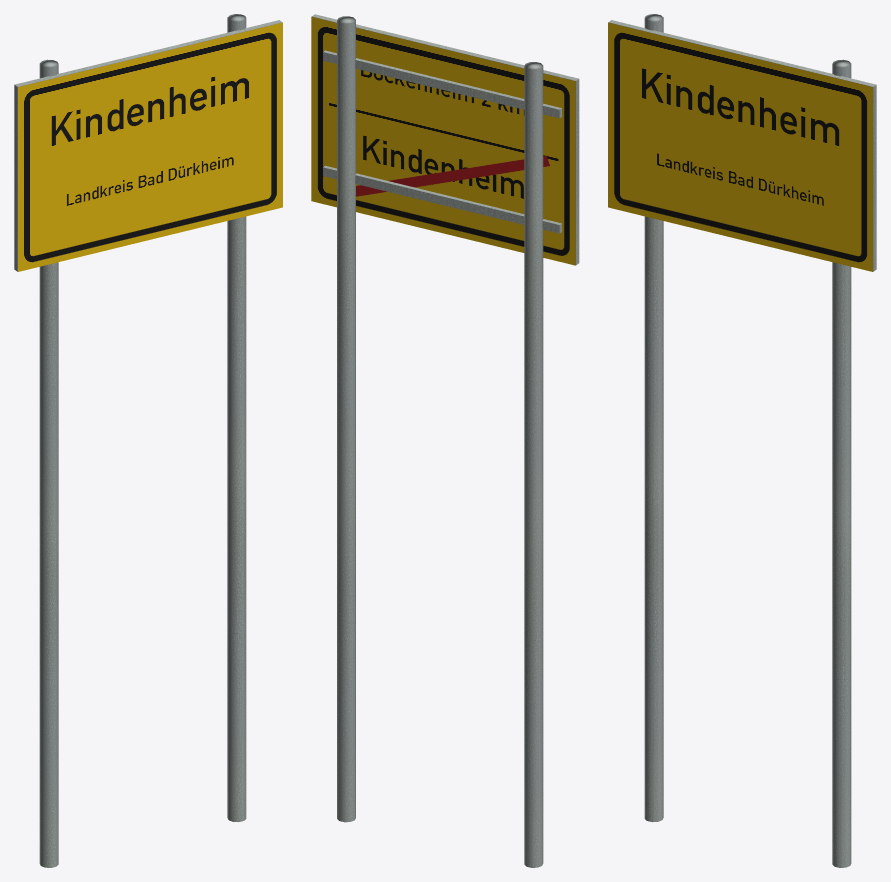
Rendered from ortsschild.glb.
The picture shows the model from 3 angles, left to right: view 1: azimuth 30°, elevation 25°; view 2: azimuth 150°, elevation 25°; view 3: azimuth 330°, elevation 25°; orthographic projection.
Visible parts, largest first — view 1: Ortsschild_FrontFace, Ortsschild_Frame; view 2: Ortsschild_BackFace, Ortsschild_Frame; view 3: Ortsschild_FrontFace, Ortsschild_Frame.
Boxes of the visible parts, <box> form: Ortsschild_FrontFace: <box>18,22,282,271</box>; Ortsschild_Frame: <box>14,14,282,867</box>; Ortsschild_BackFace: <box>311,17,575,265</box>; Ortsschild_Frame: <box>311,14,579,867</box>; Ortsschild_FrontFace: <box>608,22,872,271</box>; Ortsschild_Frame: <box>608,14,876,867</box>.
Size of the model in its own units: 0.96 by 2.77 by 0.0745.
3 materials, 3 textured.
